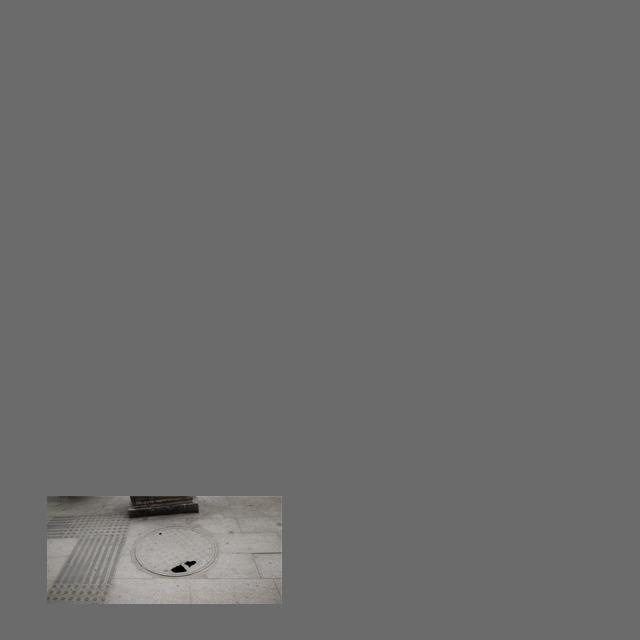broke: (136, 525, 217, 576)
